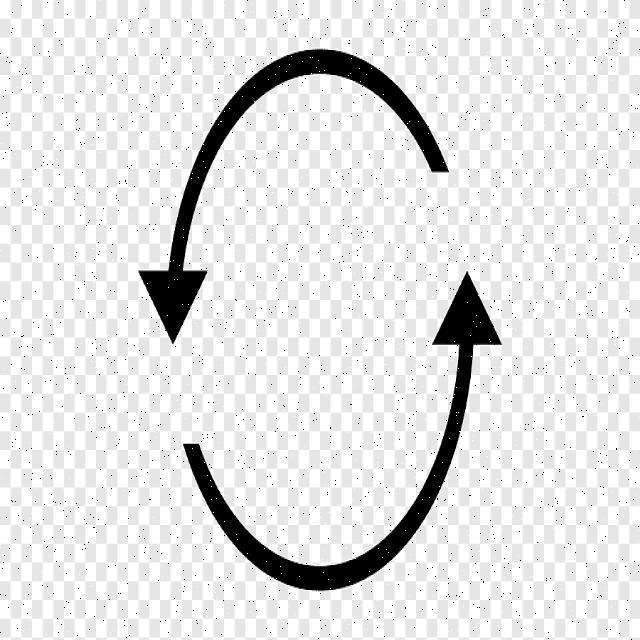Circle: (174, 49, 476, 589)
